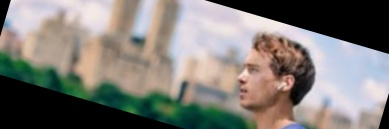earphone: (276, 72, 296, 95)
